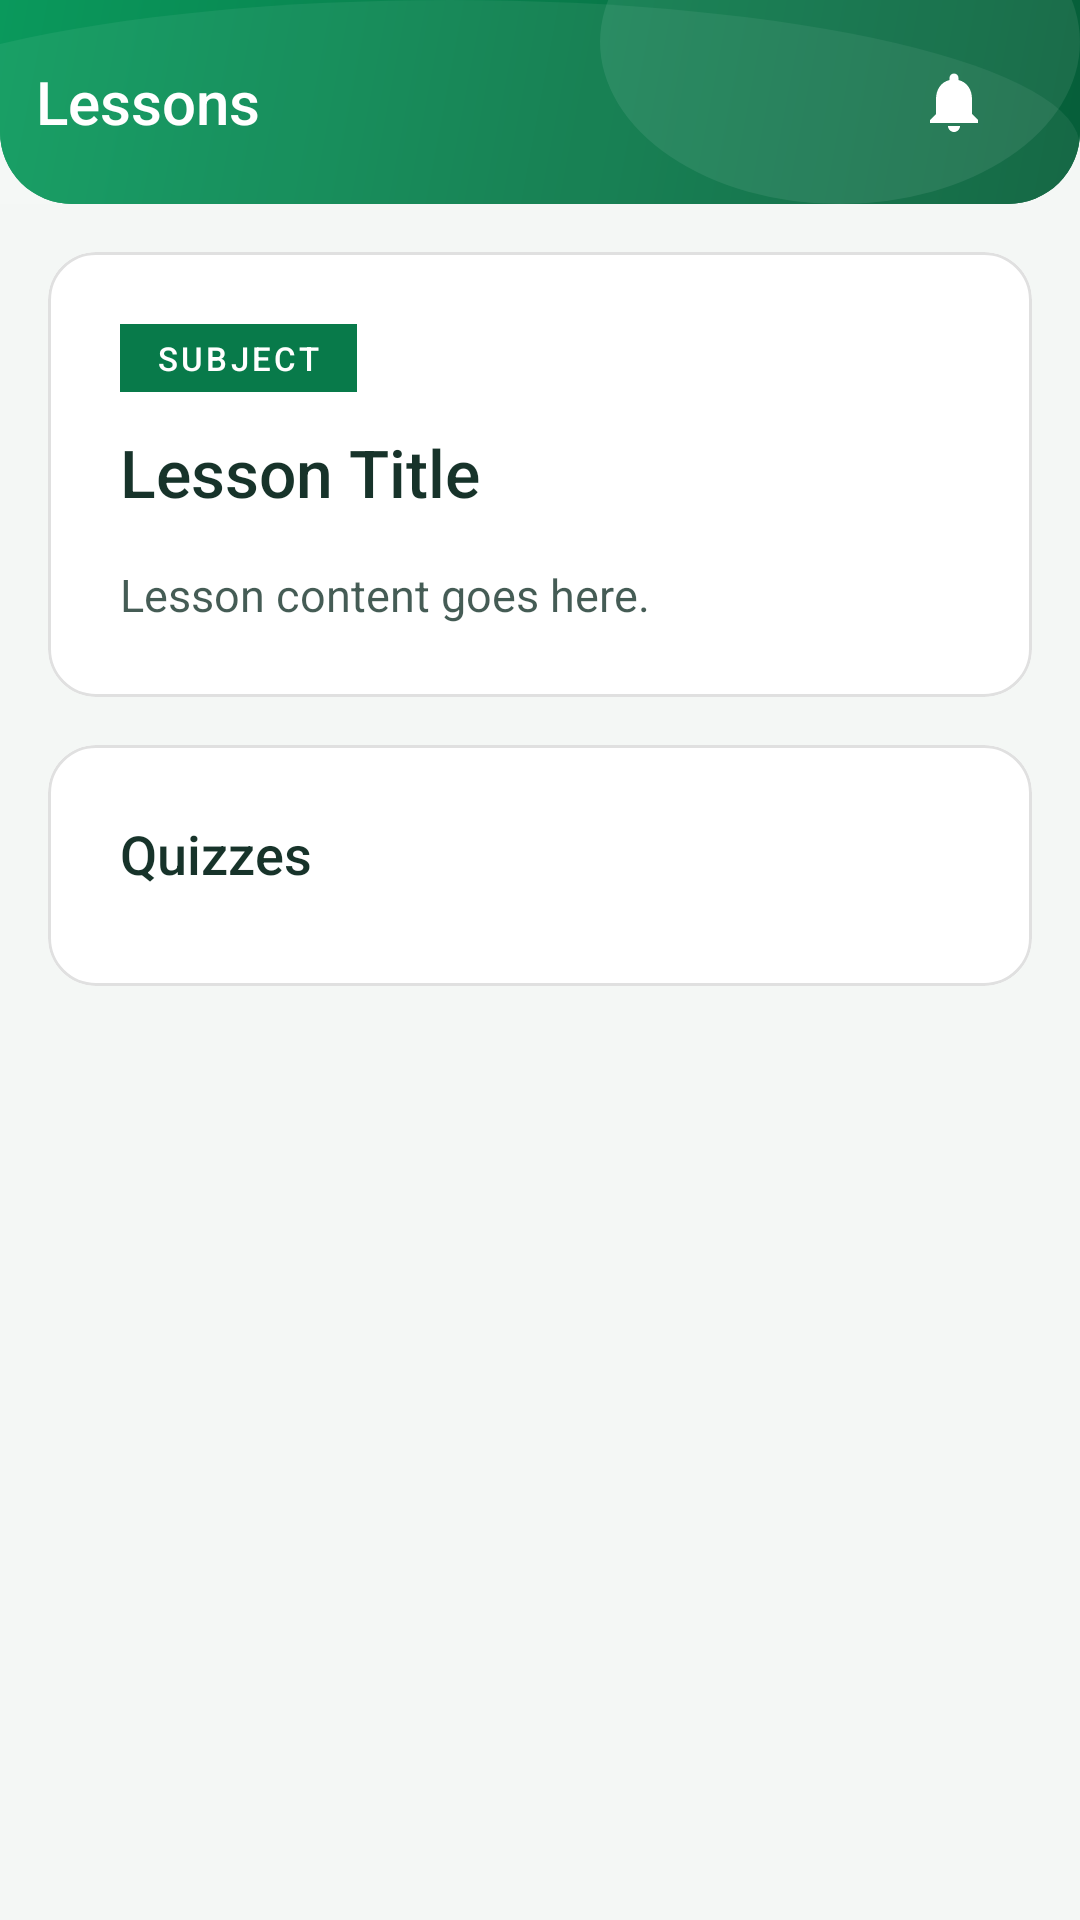

Named icons in this screenshot (1080w x 1920h) and their centers, (x,y):
Notifications: (954,102)
